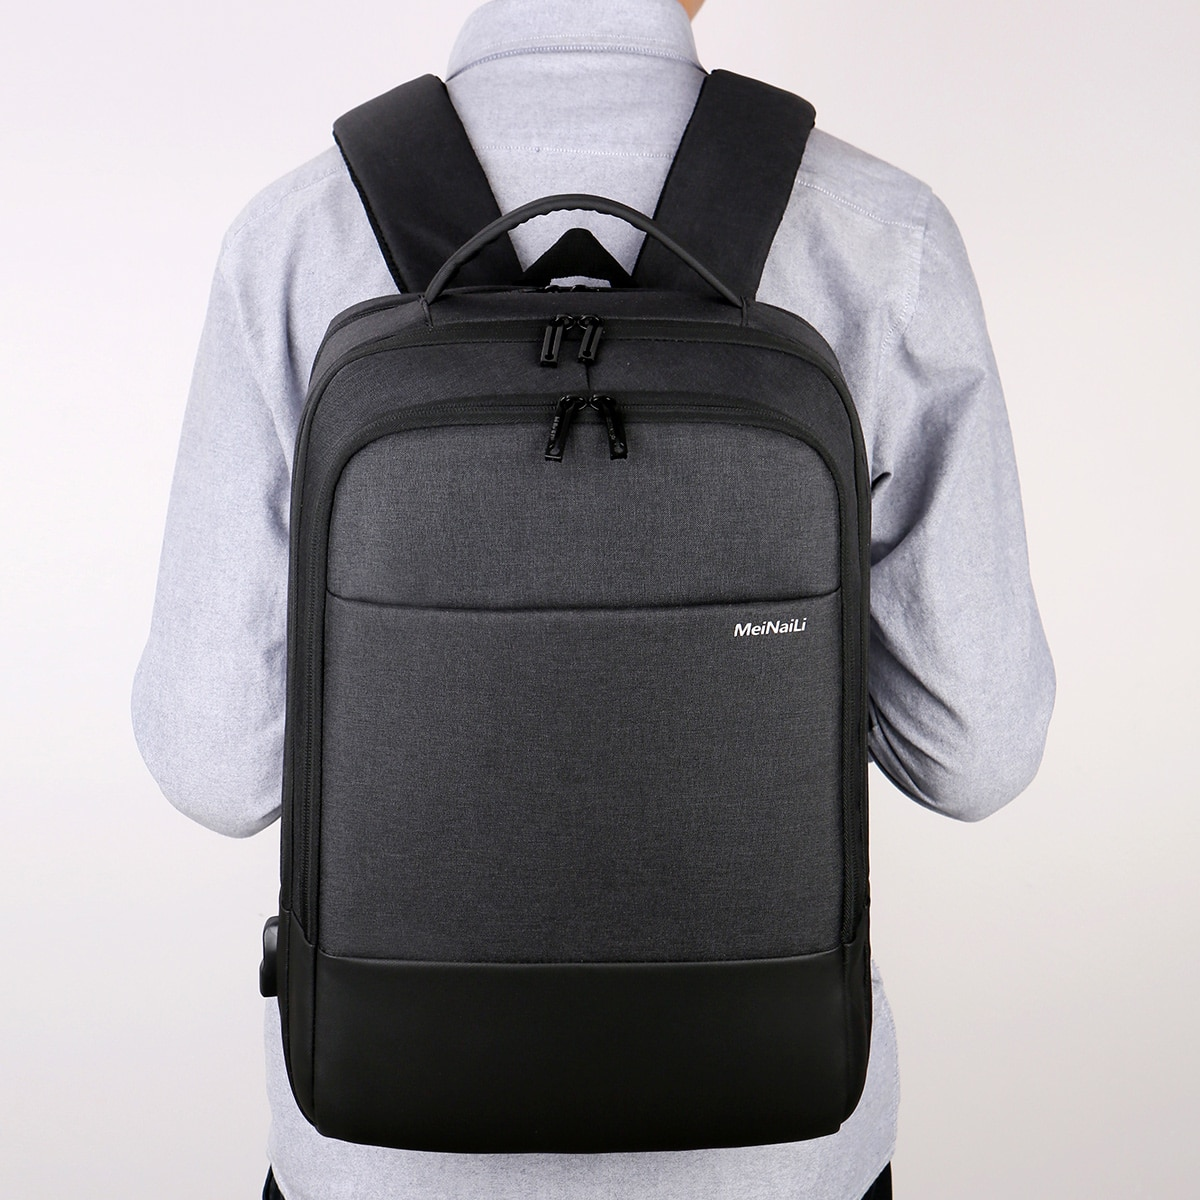Men's Backpacks: (284, 70, 885, 1159)
Tops|Shirts: (136, 1, 1058, 1200)
